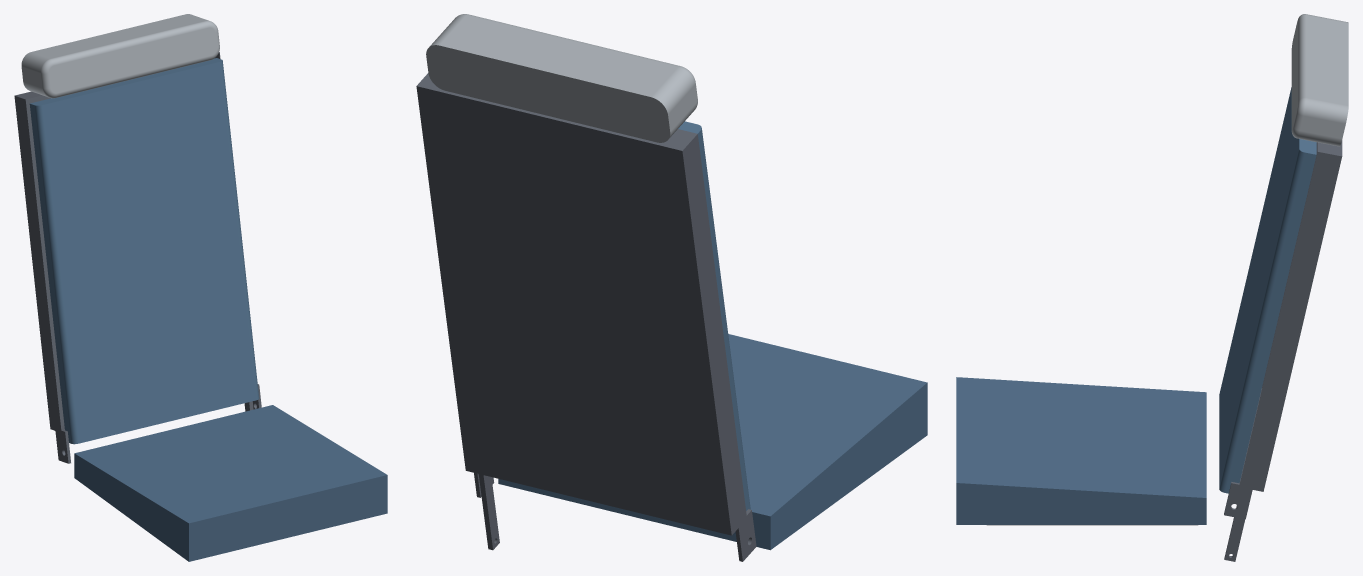
The model's file is step_03.glb.
3 renders of one model, left to right at view 1: azimuth 30°, elevation 25°; view 2: azimuth 150°, elevation 25°; view 3: azimuth 270°, elevation 25°, orthographic. The views are drawn at different scales.
Visible parts, largest first — view 1: part__back cushion cover, part__cushion cover, part__head rest, part__back shell; view 2: part__back shell, part__cushion cover, part__head rest, part__back cushion cover; view 3: part__cushion cover, part__back cushion cover, part__back shell, part__head rest.
Part boxes in pixels (<box>): part__back cushion cover: <box>29,58,259,444</box>; part__cushion cover: <box>74,405,387,561</box>; part__head rest: <box>21,14,219,98</box>; part__back shell: <box>14,52,261,463</box>; part__back shell: <box>416,73,756,561</box>; part__cushion cover: <box>498,334,927,550</box>; part__head rest: <box>426,14,697,142</box>; part__back cushion cover: <box>678,121,750,510</box>; part__cushion cover: <box>956,377,1206,524</box>; part__back cushion cover: <box>1219,87,1316,493</box>; part__back shell: <box>1224,140,1342,561</box>; part__head rest: <box>1291,14,1348,146</box>.
Size of the model in its own units: 450 by 903 by 705.
